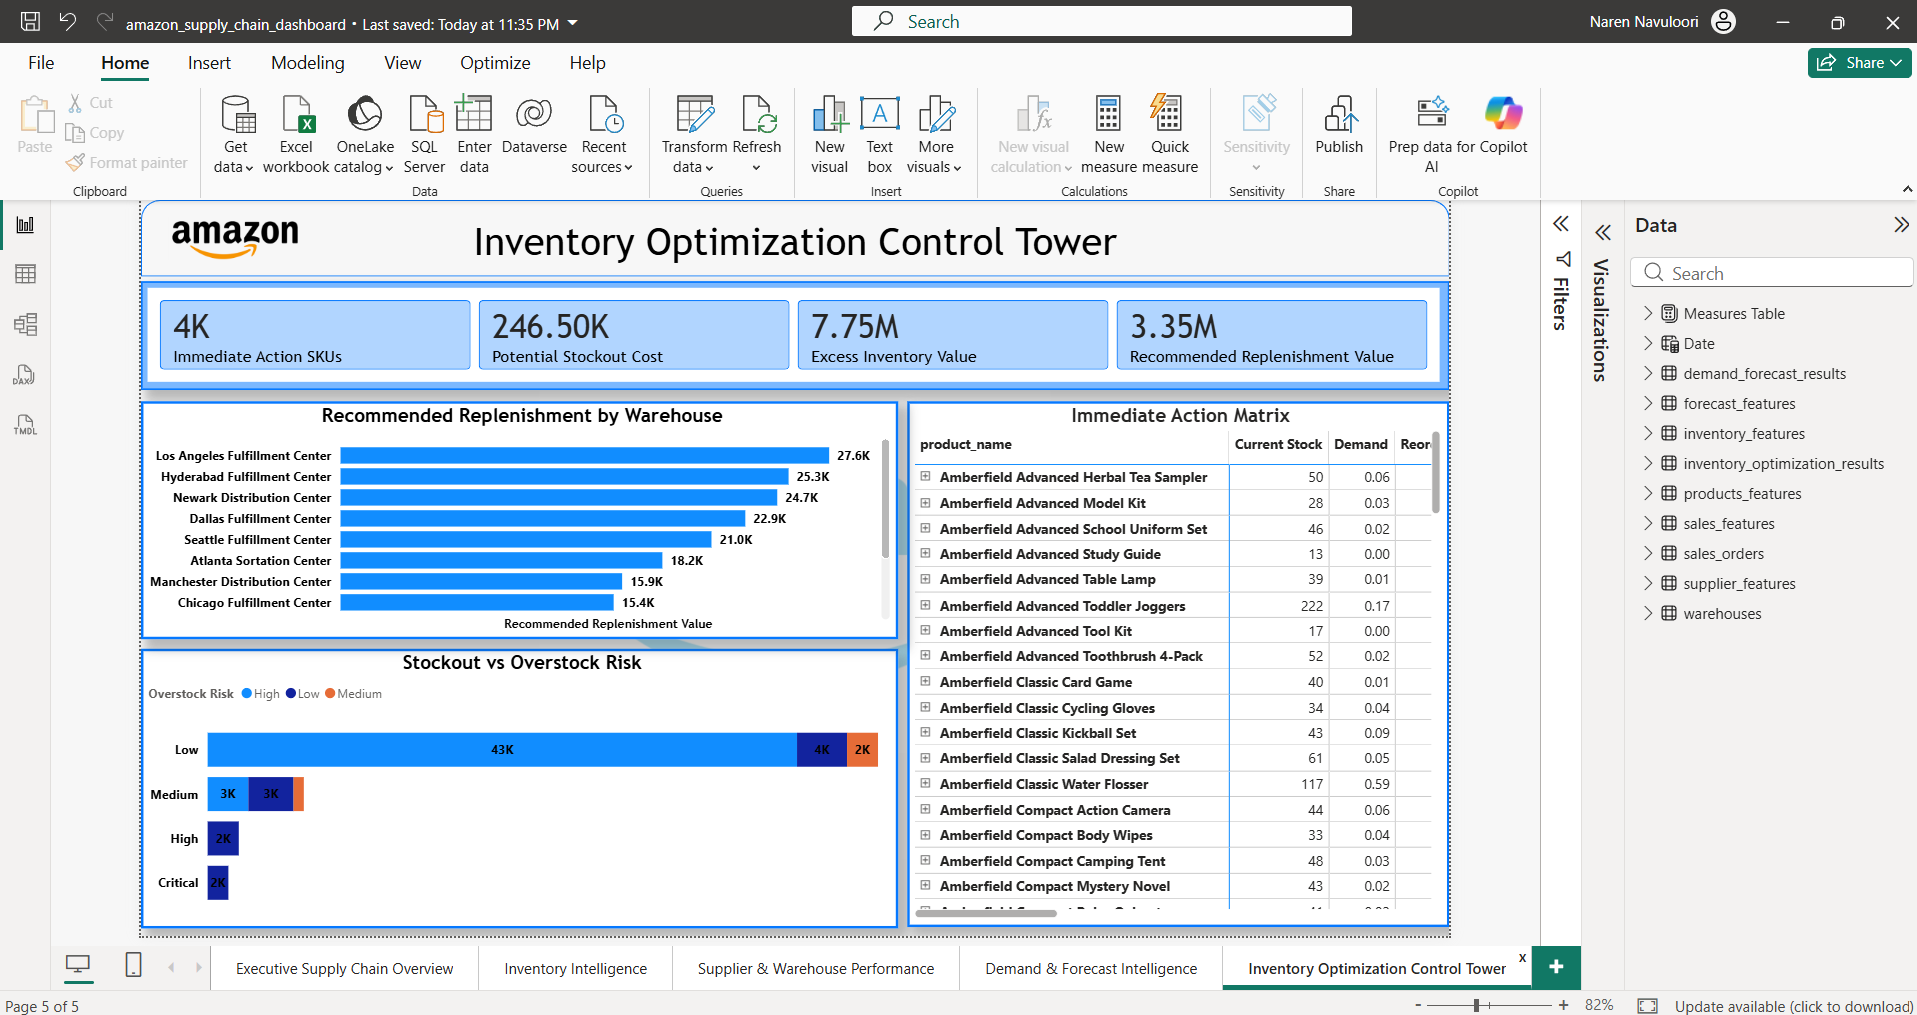

The page's visual inventory and layout, read from the dashboard file:
{"tool":"powerbi","page":{"name":"Inventory Optimization Control Tower","canvas":[1280,720],"ordinal":4},"visuals":[{"type":"shape","box":[0,0,1280.2,74.9],"z":0},{"type":"image","box":[11,17.1,160.2,41.6],"z":1000},{"type":"cardVisual","fields":{"Data":["Measures Table.Immediate Action SKUs","Measures Table.Potential Stockout Cost","Measures Table.Excess Inventory Value","Measures Table.Recommended Replenishment Value"]},"box":[0,79.5,1280.3,106.4],"z":2000},{"type":"barChart","title":"Stockout vs Overstock Risk","fields":{"Category":["inventory_optimization_results.stockout_risk"],"Y":["Measures Table.Action SKU Count"],"Series":["inventory_optimization_results.overstock_risk"]},"box":[0,438.6,741.2,273.2],"z":3000},{"type":"pivotTable","title":"Immediate Action Matrix","fields":{"Rows":["products_features.product_name","warehouses.warehouse_name"],"Values":["Measures Table.Optimization Current Stock","Measures Table.Planning Daily Demand","Measures Table.Optimization Reorder Point","Measures Table.Recommended Order Quantity","Measures Table.Stockout Risk Label","Measures Table.Recommended Action"]},"box":[749.8,197.2,530.5,514.5],"z":5000},{"type":"clusteredBarChart","title":"Recommended Replenishment by Warehouse","fields":{"Category":["warehouses.warehouse_name"],"Y":["Measures Table.Recommended Replenishment Value"]},"box":[0,197.2,741.2,232.8],"z":5001}]}

Visuals, with their boxes on the page's 1280x720 design canvas (x1, y1, x2, y2). These are canvas units, not pixel positions in the 1917x1015 screenshot, which may show the page scaled, cropped or inside an application window:
shape: <region>0, 0, 1280, 75</region>
image: <region>11, 17, 171, 59</region>
cardVisual - Measures Table.Immediate Action SKUs x Measures Table.Potential Stockout Cost: <region>0, 80, 1280, 186</region>
"Stockout vs Overstock Risk" barChart: <region>0, 439, 741, 712</region>
"Immediate Action Matrix" pivotTable: <region>750, 197, 1280, 712</region>
"Recommended Replenishment by Warehouse" clusteredBarChart: <region>0, 197, 741, 430</region>
